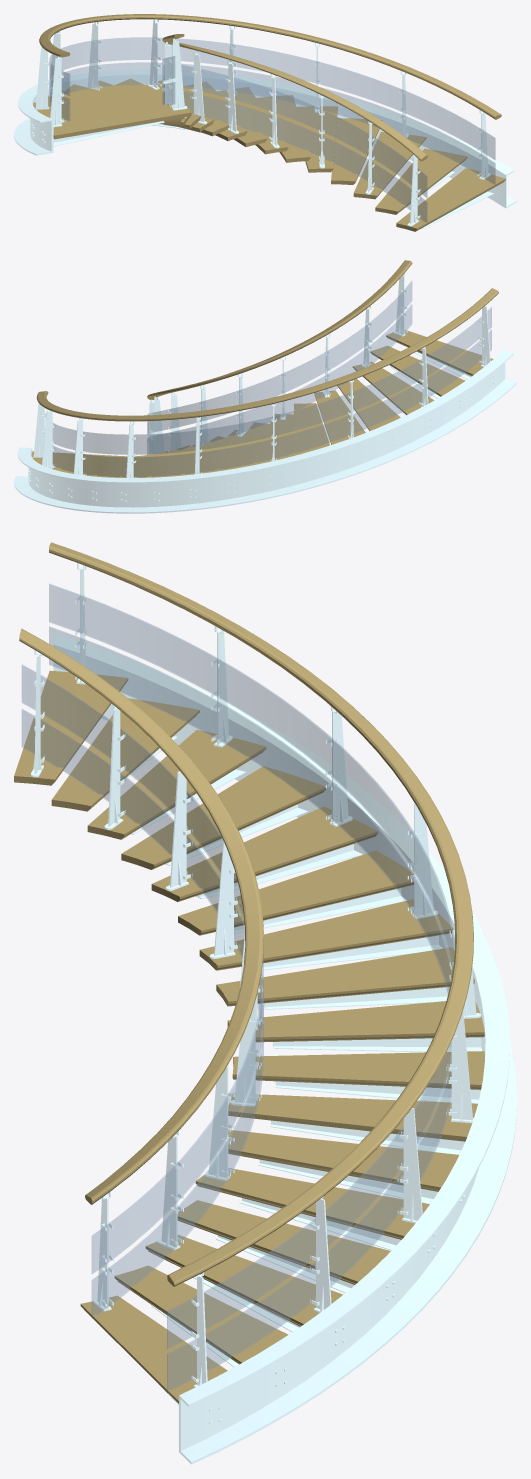
The model's file is dc_stair.glb.
The picture shows the model from 3 angles, top to bottom: view 1: azimuth 30°, elevation 25°; view 2: azimuth 150°, elevation 25°; view 3: azimuth 270°, elevation 25°; orthographic projection. The views are drawn at different scales.
Parts seen in each view (by area): view 1: Handrail.019, Custom, Handrail, Handrail.018, Handrail.036, Handrail.034, Handrail.030, Handrail.011, Baluster.031, Handrail.009, Handrail.028, Handrail.001 (+7 smaller); view 2: Handrail.019, Custom, Handrail, Handrail.022, Handrail.018, Handrail.020, Handrail.024, Handrail.036, Handrail.003, Handrail.005, Handrail.026, Handrail.015 (+2 smaller); view 3: Handrail.019, Custom, Handrail, Baluster.019, Baluster.021, Baluster.017, Baluster.015, Handrail.005, Handrail.024, Handrail.030, Handrail.026, Baluster.013 (+14 smaller).
Part boxes in pixels (x1,y1,x2,y2): Handrail.019: (14, 14, 516, 208); Custom: (33, 79, 505, 231); Handrail: (162, 34, 427, 224); Handrail.018: (169, 38, 187, 110); Handrail.036: (50, 56, 65, 127); Handrail.034: (35, 46, 50, 109); Handrail.030: (86, 21, 102, 90); Handrail.011: (190, 50, 207, 124); Baluster.031: (53, 121, 164, 146); Handrail.009: (225, 59, 238, 133); Handrail.028: (147, 19, 161, 89); Handrail.001: (407, 154, 420, 226); Handrail.019: (14, 288, 516, 513); Custom: (31, 330, 493, 477); Handrail: (147, 260, 412, 454); Handrail.022: (42, 410, 55, 468); Handrail.018: (393, 273, 407, 336); Handrail.020: (32, 403, 46, 457); Handrail.024: (73, 418, 86, 475); Handrail.036: (478, 305, 490, 367); Handrail.003: (150, 396, 163, 453); Handrail.005: (168, 392, 180, 451); Handrail.026: (126, 421, 136, 477); Handrail.015: (361, 305, 372, 367); Handrail.019: (49, 542, 516, 1464); Custom: (14, 670, 484, 1403); Handrail: (19, 628, 263, 1318); Baluster.019: (263, 987, 449, 1009); Baluster.021: (262, 935, 442, 970); Baluster.017: (272, 1037, 482, 1052); Baluster.015: (275, 1081, 480, 1103); Handrail.005: (204, 1064, 234, 1180); Handrail.024: (397, 1108, 422, 1223); Handrail.030: (407, 802, 438, 919); Handrail.026: (446, 1010, 473, 1123); Baluster.013: (270, 1120, 464, 1154).
Size of the model in its own units: 7.42 by 4.1 by 3.65.
